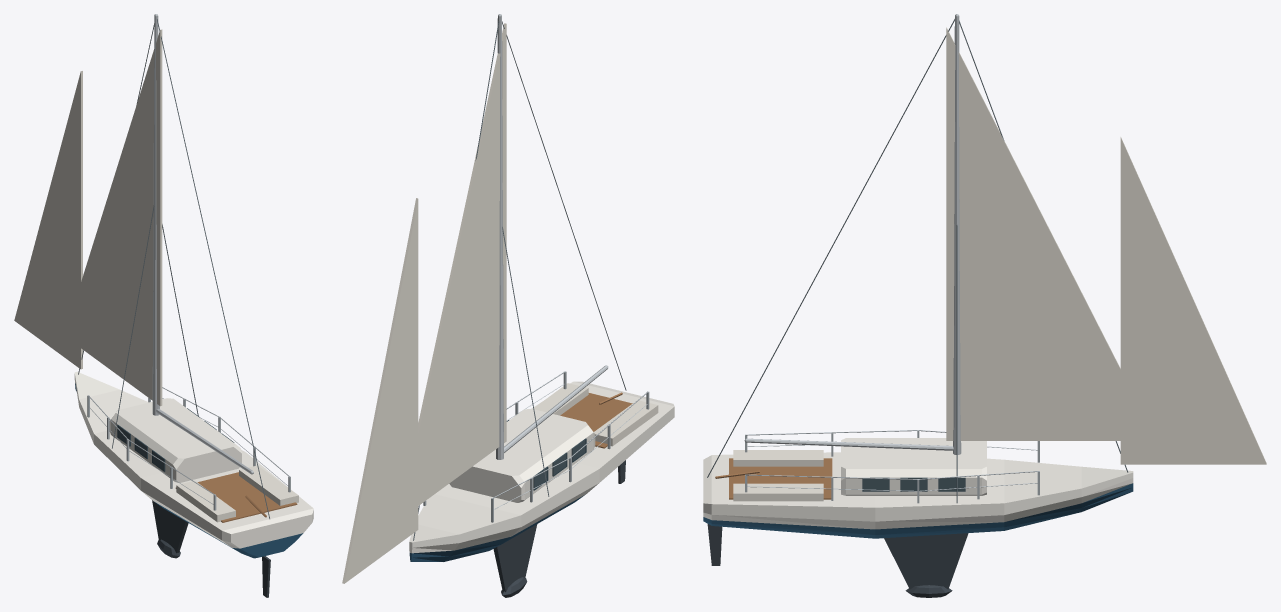
File: BOAT_08.obj
The picture shows the model from 3 angles, left to right: view 1: azimuth 30°, elevation 25°; view 2: azimuth 150°, elevation 25°; view 3: azimuth 270°, elevation 25°; orthographic projection. The views are drawn at different scales.
Visible parts, largest first — view 1: mainsail, jib, hull_upper, cabin, cockpit_seats, deck, mast, rigging, lifelines, keel_fin, hull_lower, windows (+1 smaller); view 2: mainsail, jib, hull_upper, cabin, cockpit_seats, mast, keel_fin, deck, rigging, lifelines, hull_lower, windows (+1 smaller); view 3: mainsail, jib, hull_upper, cabin, hull_lower, keel_fin, cockpit_seats, mast, deck, lifelines, rigging, windows (+1 smaller).
Boxes of the visible parts, x1,y1,x2,y2 form: mainsail: [64, 29, 162, 406]; jib: [14, 71, 82, 369]; hull_upper: [74, 371, 313, 548]; cabin: [109, 398, 241, 482]; cockpit_seats: [176, 465, 298, 522]; deck: [175, 472, 297, 522]; mast: [152, 14, 159, 415]; rigging: [78, 19, 269, 519]; lifelines: [87, 387, 290, 510]; keel_fin: [152, 500, 188, 553]; hull_lower: [75, 383, 303, 558]; windows: [117, 408, 234, 471]; mainsail: [403, 23, 506, 507]; jib: [342, 198, 418, 583]; hull_upper: [409, 381, 674, 553]; cabin: [449, 408, 595, 502]; cockpit_seats: [533, 383, 658, 446]; mast: [496, 14, 503, 459]; keel_fin: [493, 524, 537, 592]; deck: [560, 393, 632, 448]; rigging: [413, 21, 626, 540]; lifelines: [423, 371, 649, 522]; hull_lower: [409, 494, 585, 561]; windows: [506, 420, 586, 490]; mainsail: [946, 27, 1156, 440]; jib: [1120, 137, 1266, 464]; hull_upper: [703, 452, 1133, 529]; cabin: [841, 438, 986, 495]; hull_lower: [703, 483, 1133, 538]; keel_fin: [884, 533, 968, 589]; cockpit_seats: [733, 450, 823, 501]; mast: [953, 14, 961, 454]; deck: [729, 458, 832, 499]; lifelines: [745, 430, 1039, 503]; rigging: [707, 19, 1128, 503]; windows: [862, 477, 965, 491].
Bounding box in the file's own units: 3.1 × 14.97 × 13.1.
